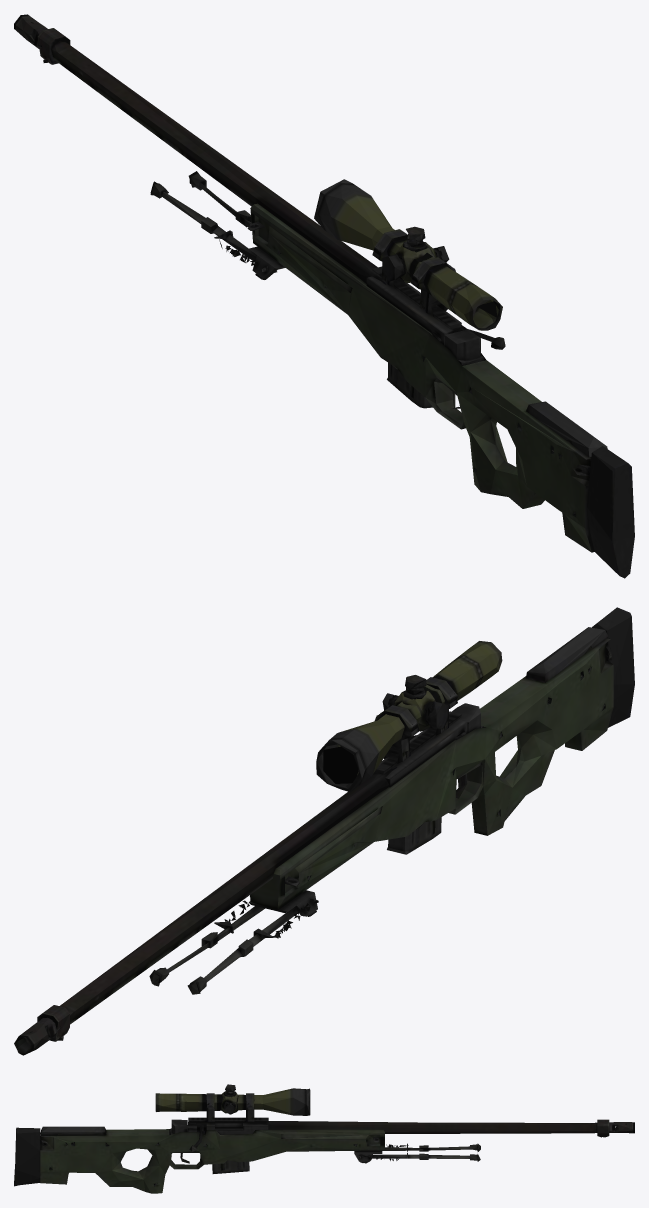
File: sniper_w.glb
3 views of the same model, one above another, from view 1: azimuth 30°, elevation 25°; view 2: azimuth 150°, elevation 25°; view 3: azimuth 270°, elevation 25° (orthographic). The views are drawn at different scales.
Visible parts, largest first — view 1: gun; view 2: gun; view 3: gun.
Boxes of the visible parts, <box> form: gun: <box>14,14,634,578</box>; gun: <box>14,607,634,1055</box>; gun: <box>14,1084,634,1193</box>.
Bounding box in the file's own units: 0.0957 × 0.2238 × 1.2.
Materials: 2 (1 with a texture image).
